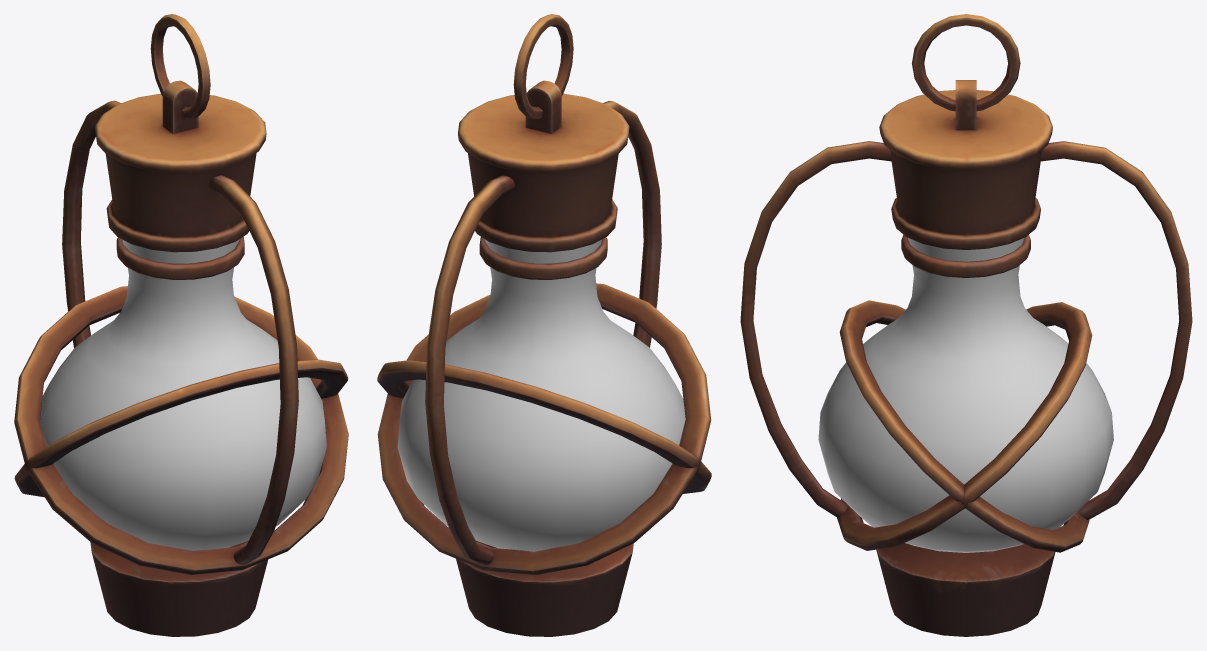
File: SM_OilLamp.fbx
The picture shows the model from 3 angles, left to right: view 1: azimuth 30°, elevation 25°; view 2: azimuth 150°, elevation 25°; view 3: azimuth 270°, elevation 25°; orthographic projection.
Parts seen in each view (by area): view 1: SM_OilLamp_LOD0; view 2: SM_OilLamp_LOD0; view 3: SM_OilLamp_LOD0.
Part boxes in pixels (x1=…): SM_OilLamp_LOD0: x1=14, y1=14, x2=348, y2=636; SM_OilLamp_LOD0: x1=377, y1=14, x2=711, y2=636; SM_OilLamp_LOD0: x1=740, y1=14, x2=1192, y2=636.
Size of the model in its own units: 35.08 by 44.11 by 63.62.
2 materials, 1 textured.
